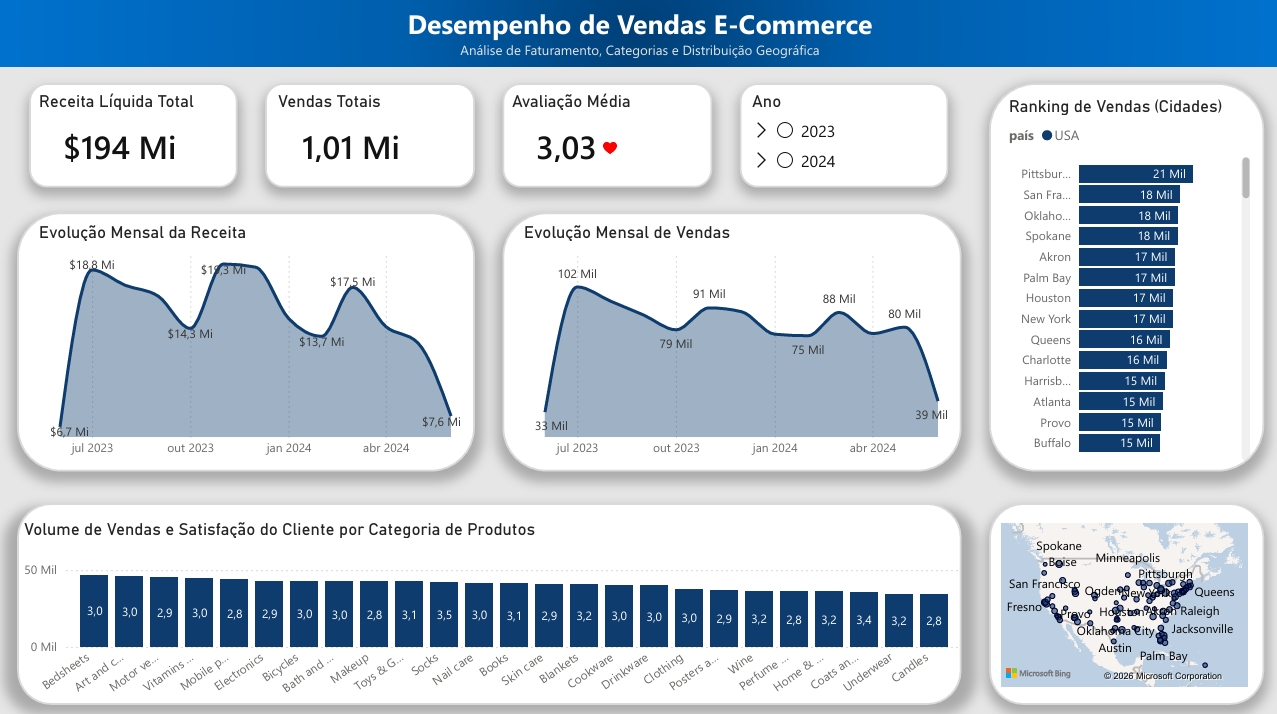

The page's visual inventory and layout, read from the dashboard file:
{"tool":"powerbi","page":{"name":"Dashboard","canvas":[1280,720],"ordinal":0},"visuals":[{"type":"cardVisual","title":"Avaliação Média","fields":{"Data":["Avg(ecommerce vw_performance_categorias.avaliacao_media)"]},"box":[507,91,200,88],"z":0},{"type":"textbox","box":[0,0,1280,68],"z":1000},{"type":"shape","box":[603.3,142.4,13.8,11.9],"z":2000},{"type":"cardVisual","title":"Vendas Totais","fields":{"Data":["Sum(ecommerce vw_receita_vendas_ano.sum(sales))"]},"box":[273,91,197,88],"z":3000},{"type":"cardVisual","title":"Receita Líquida Total","fields":{"Data":["Sum(ecommerce vw_receita_vendas_ano.sum(revenue_net))"]},"box":[34,91,198,88],"z":4000},{"type":"listSlicer","fields":{"Values":["ecommerce vw_faturamento_mensal.data_referencia.Variation.Hierarquia de datas.Ano","ecommerce vw_faturamento_mensal.data_referencia.Variation.Hierarquia de datas.Trimestre","ecommerce vw_faturamento_mensal.data_referencia.Variation.Hierarquia de datas.Mês","ecommerce vw_faturamento_mensal.data_referencia.Variation.Hierarquia de datas.Dia"]},"box":[746.7,91.1,194.4,87.8],"z":5000},{"type":"barChart","title":"Ranking de Vendas (Cidades)","fields":{"Category":["ecommerce vw_analise_geografica.cidade"],"Series":["ecommerce vw_analise_geografica.país"],"Y":["Sum(ecommerce vw_analise_geografica.total_unidades_vendidas)"]},"box":[1004,96,251,370],"z":6000},{"type":"areaChart","title":"Evolução Mensal da Receita","fields":{"Category":["ecommerce vw_faturamento_mensal.data_referencia.Variation.Hierarquia de datas.Ano","ecommerce vw_faturamento_mensal.data_referencia.Variation.Hierarquia de datas.Mês"],"Y":["Sum(ecommerce vw_faturamento_mensal.receita_total_liquida)"]},"box":[34,222,446,244],"z":7000},{"type":"areaChart","title":"Evolução Mensal de Vendas","fields":{"Category":["ecommerce vw_faturamento_mensal.data_referencia.Variation.Hierarquia de datas.Ano","ecommerce vw_faturamento_mensal.data_referencia.Variation.Hierarquia de datas.Mês"],"Y":["Sum(ecommerce vw_faturamento_mensal.total_unidades_vendidas)"]},"box":[519,222,448,244],"z":8000},{"type":"clusteredColumnChart","title":"Volume de Vendas e Satisfação do Cliente por Categoria de Produtos","fields":{"Category":["ecommerce vw_performance_categorias.categoria"],"Y":["Sum(ecommerce vw_performance_categorias.total_unidades_vendidas)"]},"box":[19,519,948,187],"z":9000},{"type":"map","fields":{"Category":["ecommerce vw_analise_geografica.cidade"],"Size":["Sum(ecommerce vw_analise_geografica.total_unidades_vendidas)"],"Series":["ecommerce vw_analise_geografica.país"]},"box":[996.7,518.9,257.8,174.4],"z":10000}]}

Visuals, with their boxes in screenshot pixels (x1, y1, x2, y2), scaled from the page's 1280x720 canvas onto the 1277x714 screenshot:
"Avaliação Média" cardVisual: crop(506, 90, 705, 178)
textbox: crop(0, 0, 1276, 67)
shape: crop(602, 141, 616, 153)
"Vendas Totais" cardVisual: crop(272, 90, 469, 178)
"Receita Líquida Total" cardVisual: crop(34, 90, 231, 178)
listSlicer - ecommerce vw_faturamento_mensal.data_referencia.Variation.Hierarquia de datas.Ano x ecommerce vw_faturamento_mensal.data_referencia.Variation.Hierarquia de datas.Trimestre: crop(745, 90, 939, 177)
"Ranking de Vendas (Cidades)" barChart: crop(1002, 95, 1252, 462)
"Evolução Mensal da Receita" areaChart: crop(34, 220, 479, 462)
"Evolução Mensal de Vendas" areaChart: crop(518, 220, 965, 462)
"Volume de Vendas e Satisfação do Cliente por Categoria de Produtos" clusteredColumnChart: crop(19, 515, 965, 700)
map - ecommerce vw_analise_geografica.cidade x Sum(ecommerce vw_analise_geografica.total_unidades_vendidas): crop(994, 515, 1252, 688)
